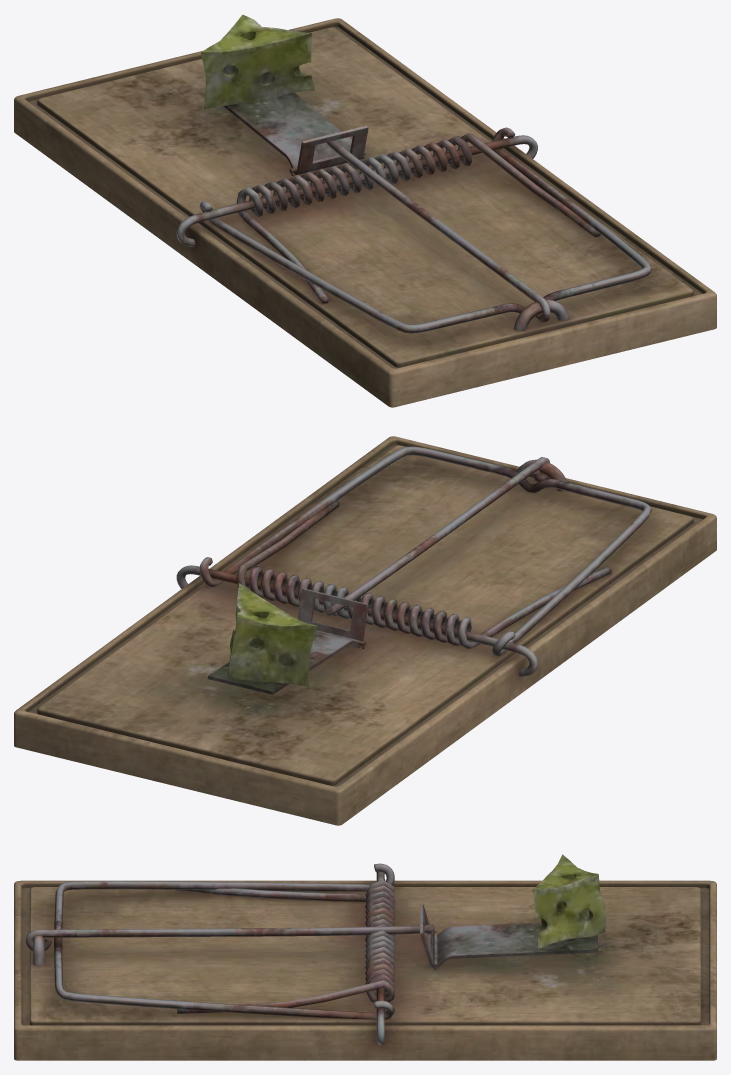
The model's file is mousetrap.glb.
The picture shows the model from 3 angles, top to bottom: view 1: azimuth 30°, elevation 25°; view 2: azimuth 150°, elevation 25°; view 3: azimuth 270°, elevation 25°; orthographic projection. The views are drawn at different scales.
Parts seen in each view (by area): view 1: mousetrap; view 2: mousetrap; view 3: mousetrap.
Boxes of the visible parts, x1=… form: mousetrap: x1=14, y1=14, x2=716, y2=407; mousetrap: x1=14, y1=436, x2=716, y2=825; mousetrap: x1=14, y1=854, x2=716, y2=1060.
Bounding box in the file's own units: 0.055 × 0.0179 × 0.1004.
1 material, 1 textured.
